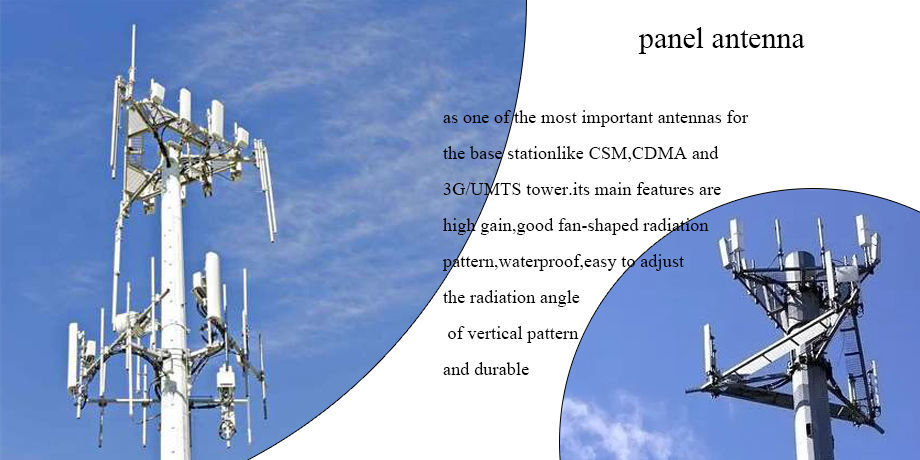sa: (60, 311, 95, 400), (194, 245, 230, 330), (196, 89, 228, 169), (695, 313, 719, 389), (174, 76, 193, 148), (725, 215, 749, 270), (849, 214, 872, 257), (715, 235, 731, 271)
